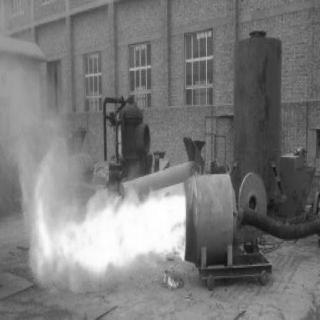Fire: (12, 147, 192, 297)
